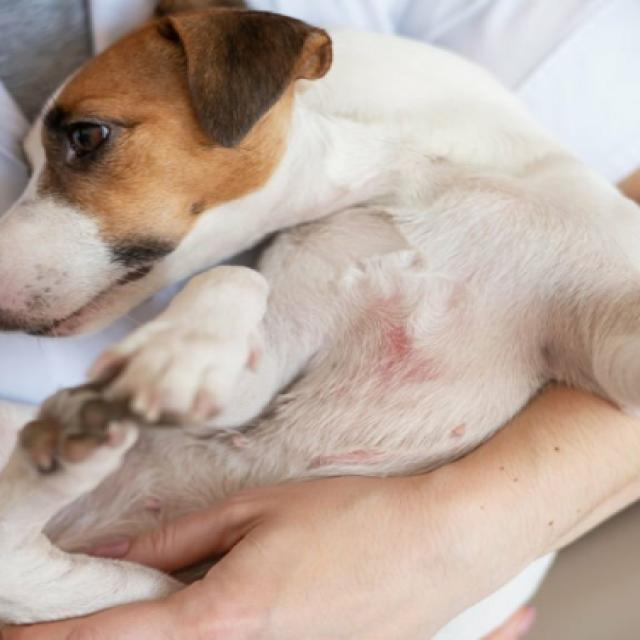allergic dermatitis: (336, 293, 466, 385), (304, 438, 396, 477)
